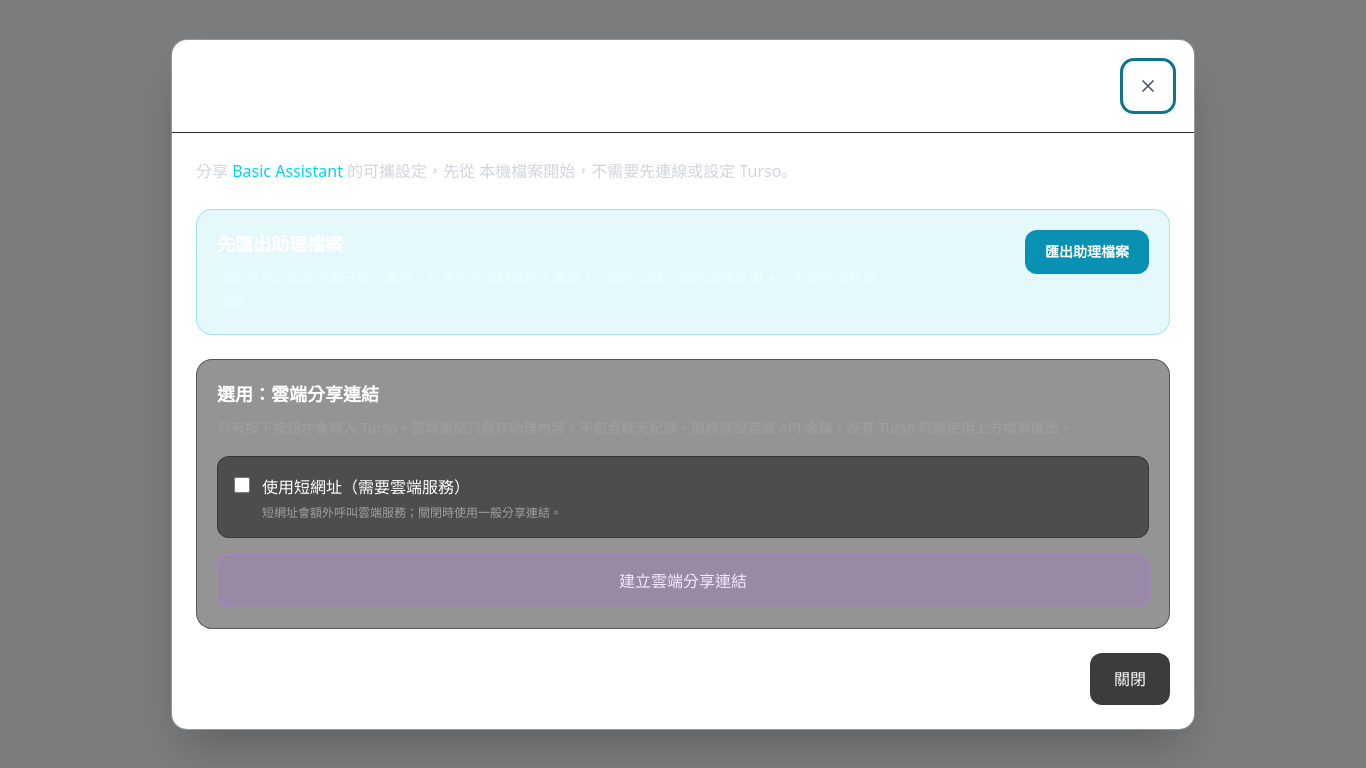
ShareModal › keeps the export route available when local export fails
Click the button "匯出助理檔案".
click(1087, 252)  # box left=1025, top=230, right=1149, bottom=274
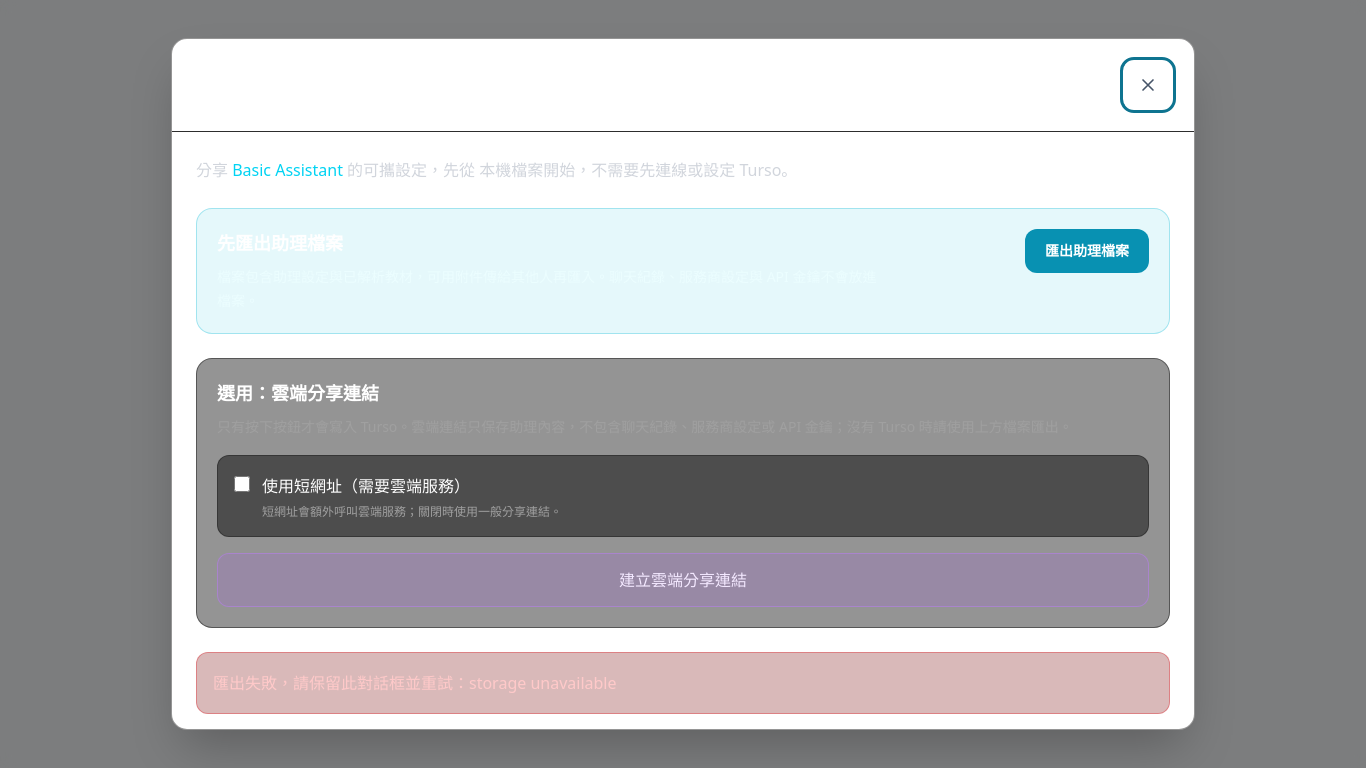
Result: the message shows "storage unavailable" at left=213, top=672, right=616, bottom=694
